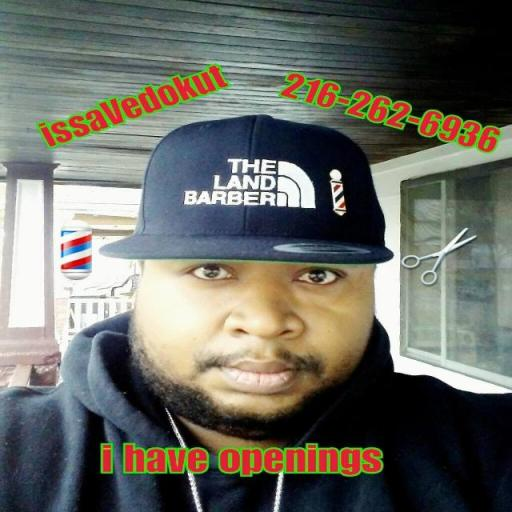The North Face: (276, 159, 318, 211)
